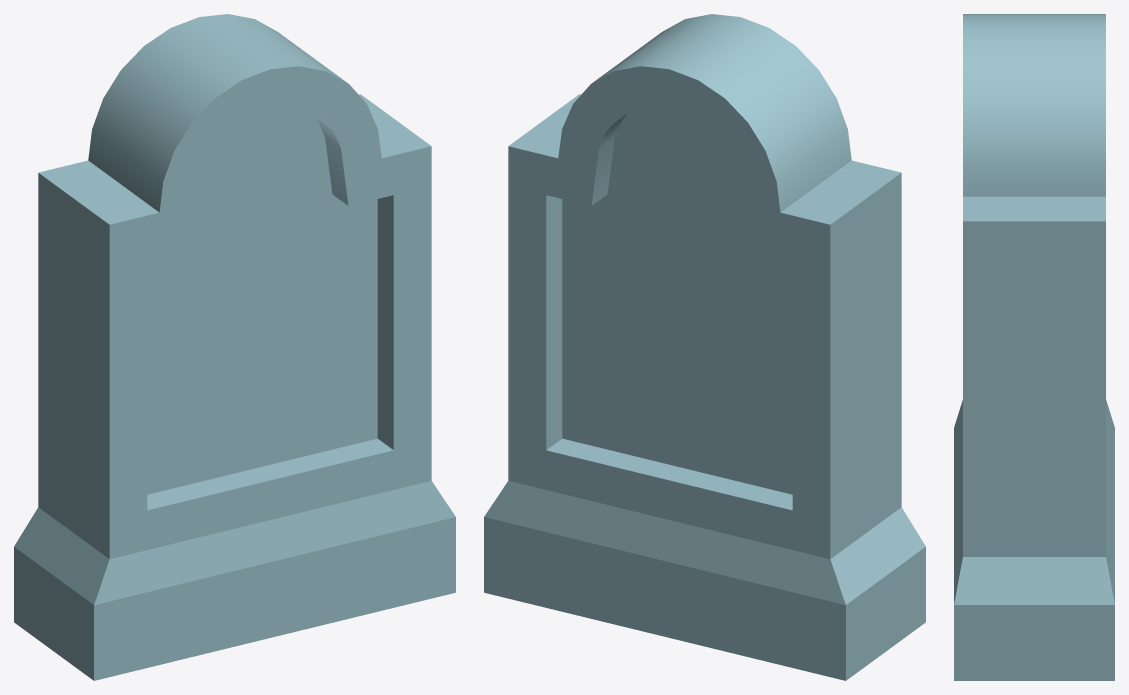
File: gravestoneBevel.obj
The picture shows the model from 3 angles, left to right: view 1: azimuth 30°, elevation 25°; view 2: azimuth 150°, elevation 25°; view 3: azimuth 270°, elevation 25°; orthographic projection.
Parts seen in each view (by area): view 1: gravestoneBevel; view 2: gravestoneBevel; view 3: gravestoneBevel.
Part boxes in pixels (x1,y1,x2,y2): gravestoneBevel: (14, 14, 455, 680); gravestoneBevel: (484, 14, 925, 680); gravestoneBevel: (954, 14, 1114, 680).
Size of the model in its own units: 0.39 by 0.5812 by 0.1495.
